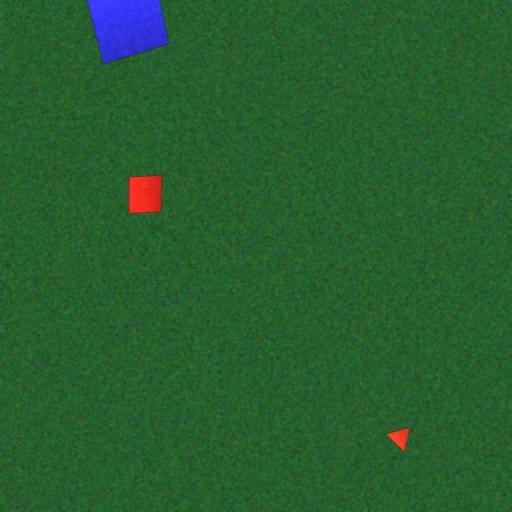BLUE_SQUARE: (84, 0, 170, 65)
RED_SQUARE: (128, 174, 162, 214)
